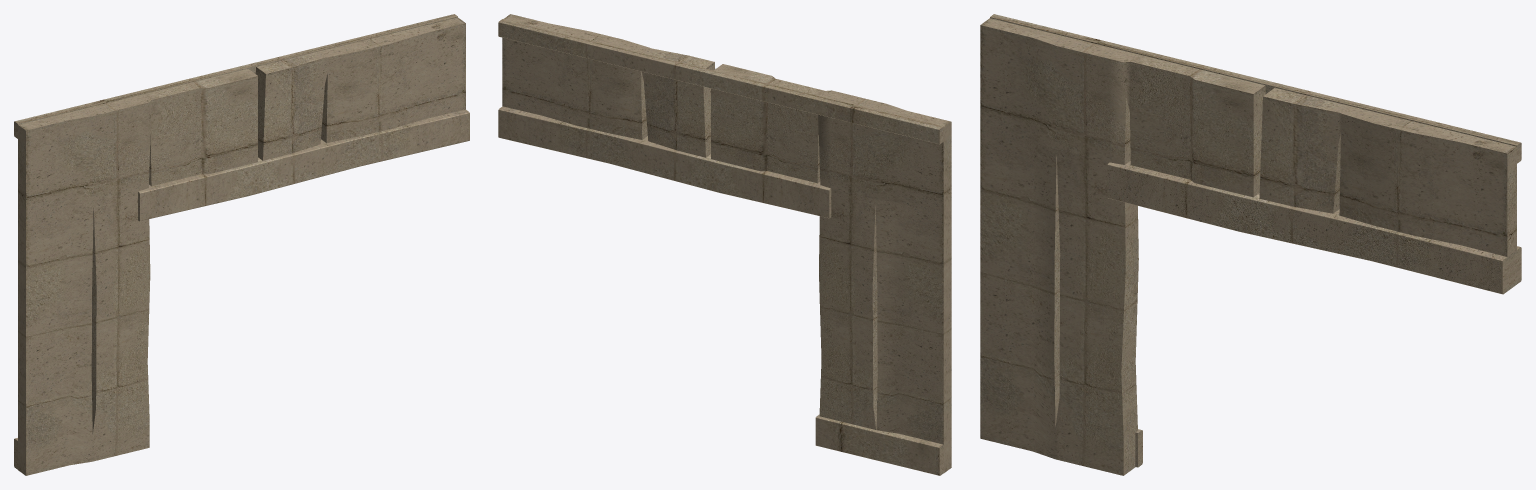
The model's file is window.glb.
3 views of the same model, side by side, from view 1: azimuth 30°, elevation 25°; view 2: azimuth 150°, elevation 25°; view 3: azimuth 330°, elevation 25° (orthographic). The views are drawn at different scales.
Visible parts, largest first — view 1: S_Farm_Barn_Wall_04; view 2: S_Farm_Barn_Wall_04; view 3: S_Farm_Barn_Wall_04.
Part boxes in pixels (<box>): S_Farm_Barn_Wall_04: <box>14,14,469,475</box>; S_Farm_Barn_Wall_04: <box>498,14,951,475</box>; S_Farm_Barn_Wall_04: <box>980,14,1521,475</box>.
Size of the model in its own units: 5.12 by 3.85 by 0.32.
Materials: 1 (1 with a texture image).
